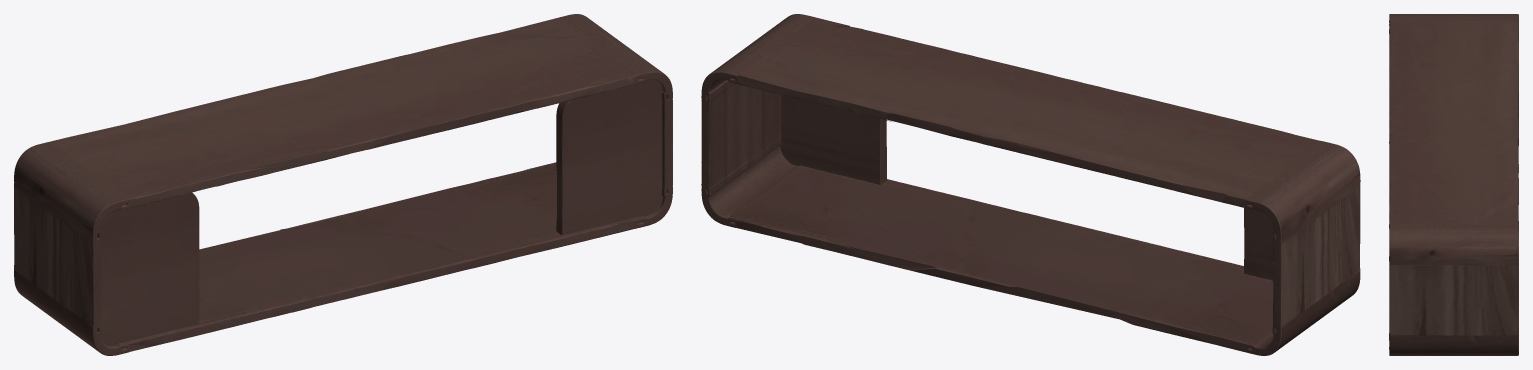
File: ellementry-boxy-wooden-wall-shelf-home-decor-items-wall-moun.glb
3 views of the same model, side by side, from view 1: azimuth 30°, elevation 25°; view 2: azimuth 150°, elevation 25°; view 3: azimuth 270°, elevation 25° (orthographic). The views are drawn at different scales.
Visible parts, largest first — view 1: Mesh_0; view 2: Mesh_0; view 3: Mesh_0.
Boxes of the visible parts, x1,y1,x2,y2 form: Mesh_0: [14, 14, 672, 355]; Mesh_0: [701, 14, 1360, 355]; Mesh_0: [1389, 14, 1518, 355].
Bounding box in the file's own units: 1.9 × 0.4812 × 0.4517.
Materials: 1 (1 with a texture image).
